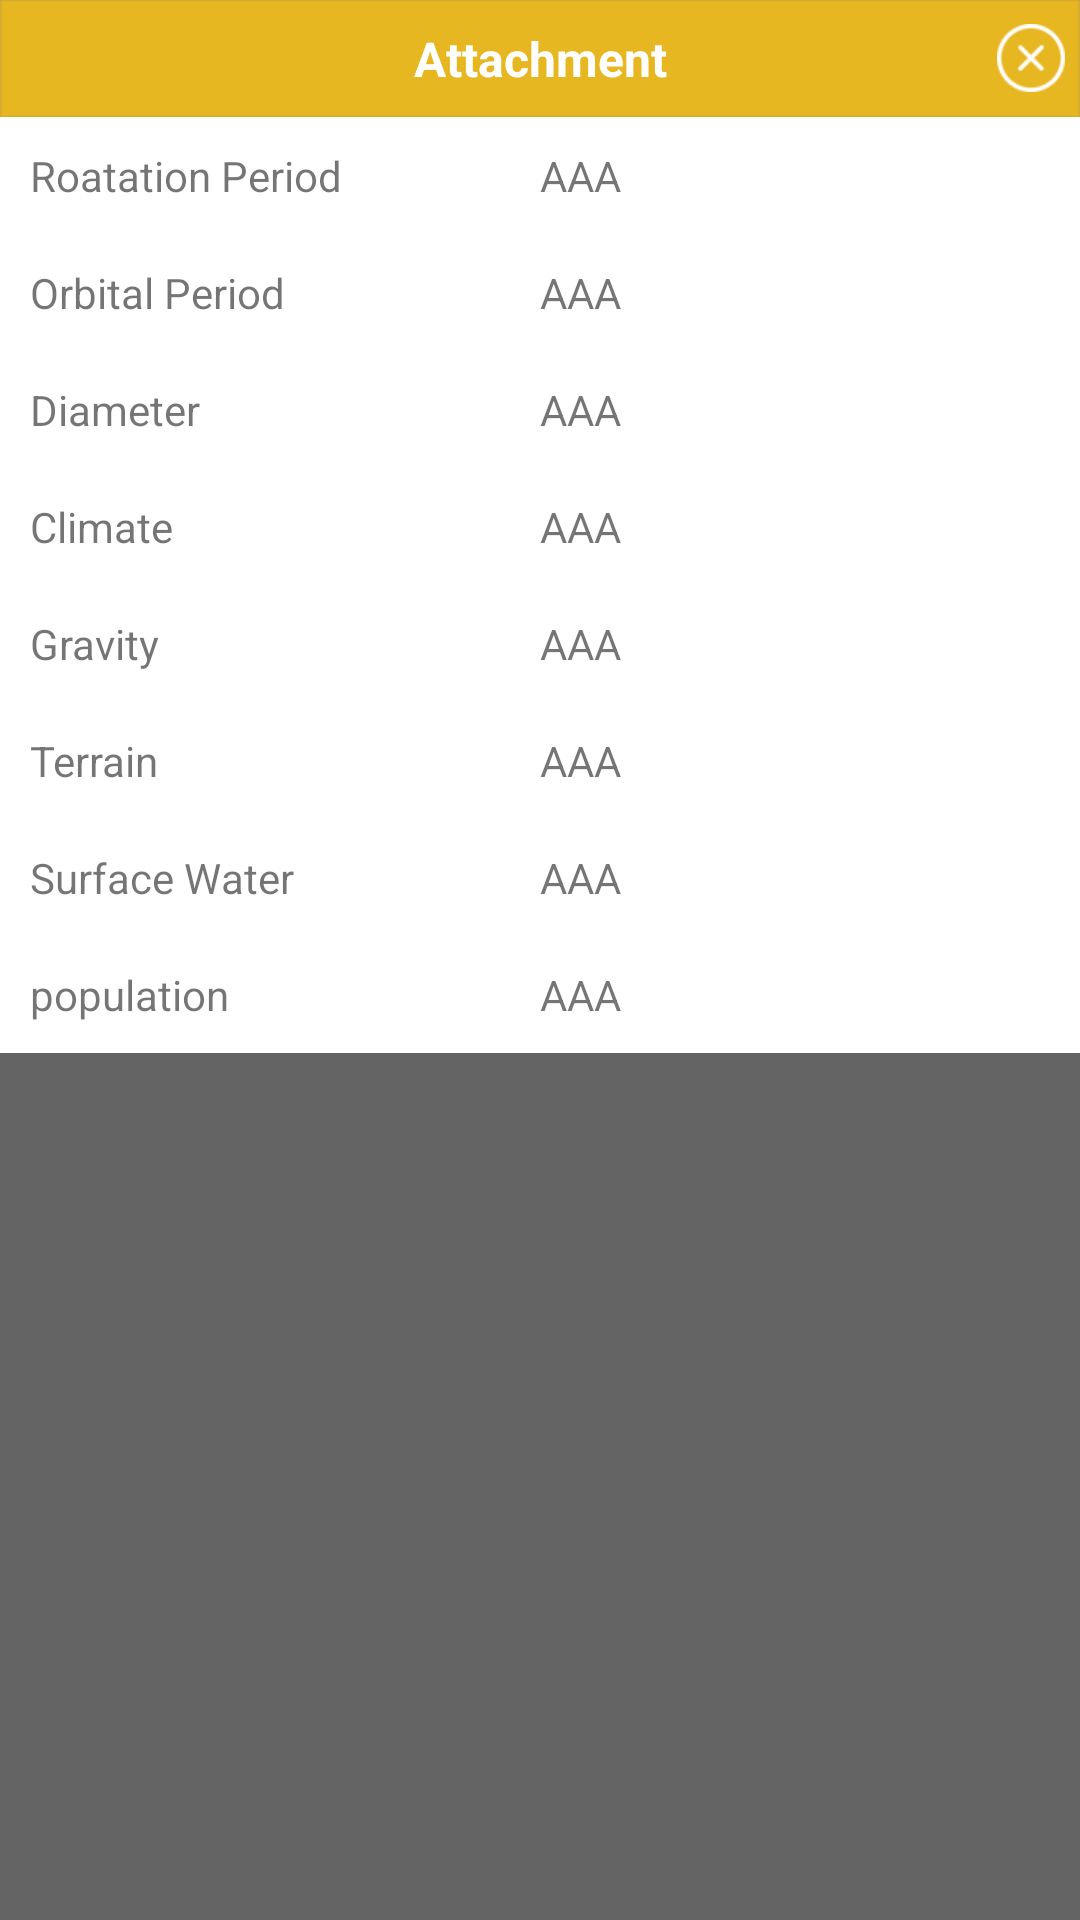

Where icons sit on this 1080w x 1920h app screen, as bbox=[x1, y1, x2, y2]:
close: bbox=[997, 24, 1065, 92]
